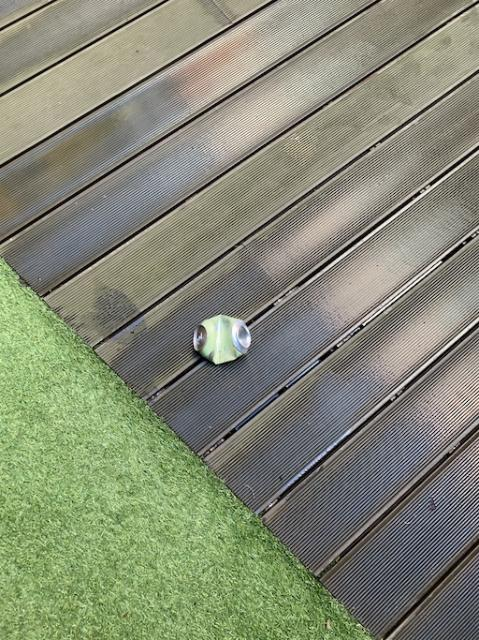metal: (192, 314, 249, 363)
